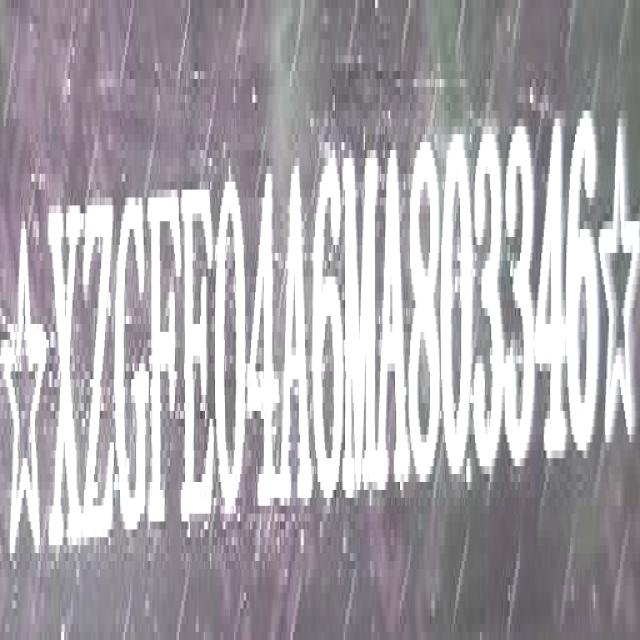0: (441, 129, 474, 494), (214, 178, 248, 532)
3: (505, 120, 537, 482), (477, 125, 505, 488)
4: (244, 155, 280, 515), (535, 106, 568, 466)
6: (568, 104, 601, 462), (312, 146, 343, 515)
8: (410, 132, 441, 496)
A: (276, 152, 314, 515), (377, 135, 411, 502)
E: (182, 173, 214, 539)
F: (150, 179, 182, 544)
G: (115, 190, 149, 552)
M: (342, 140, 378, 500)
X: (50, 196, 78, 569)
Z: (80, 187, 115, 556)
